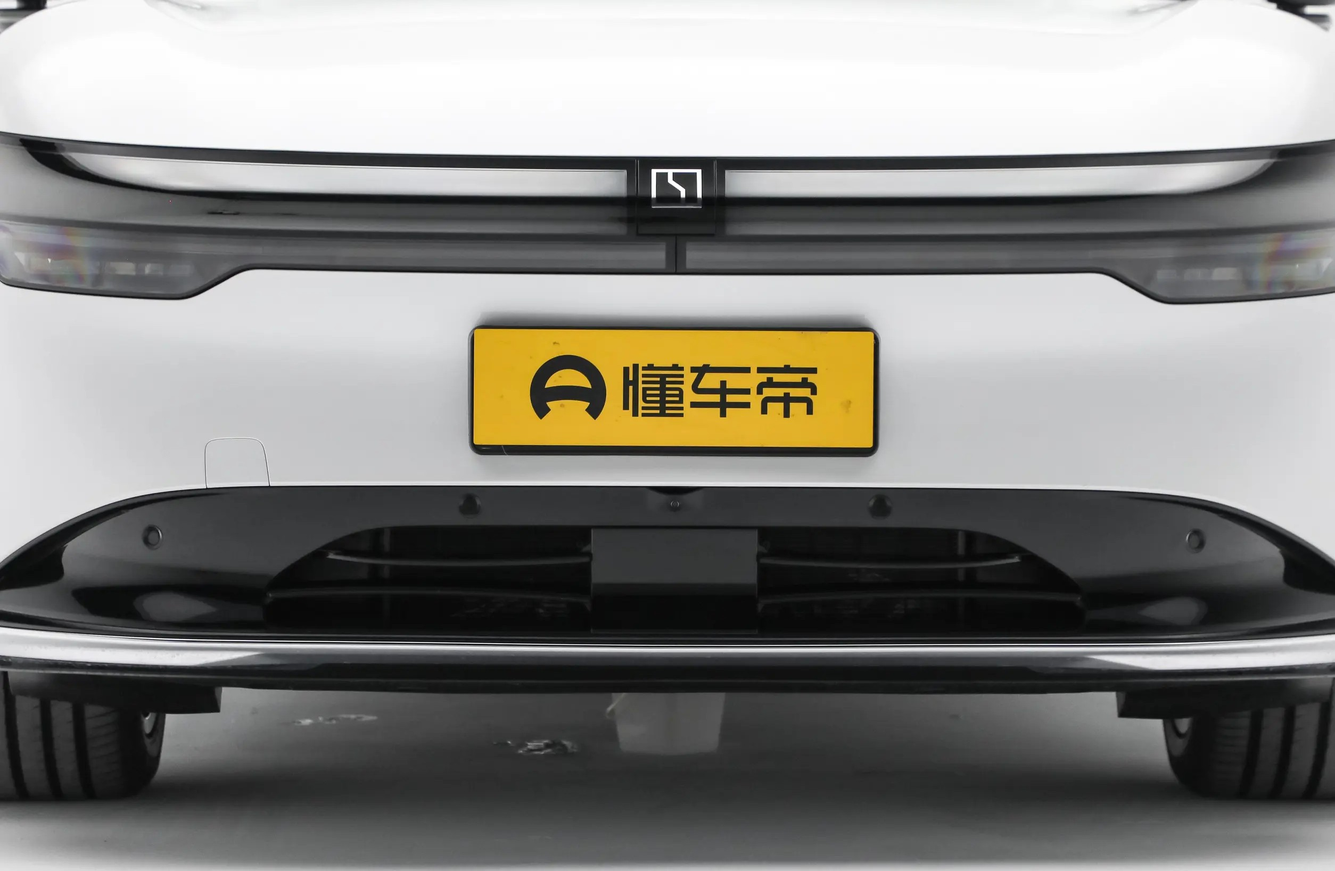ZEEKR: (652, 169, 702, 207)
